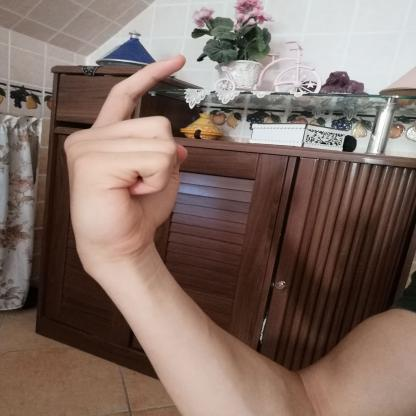RAA: (54, 47, 201, 272)
